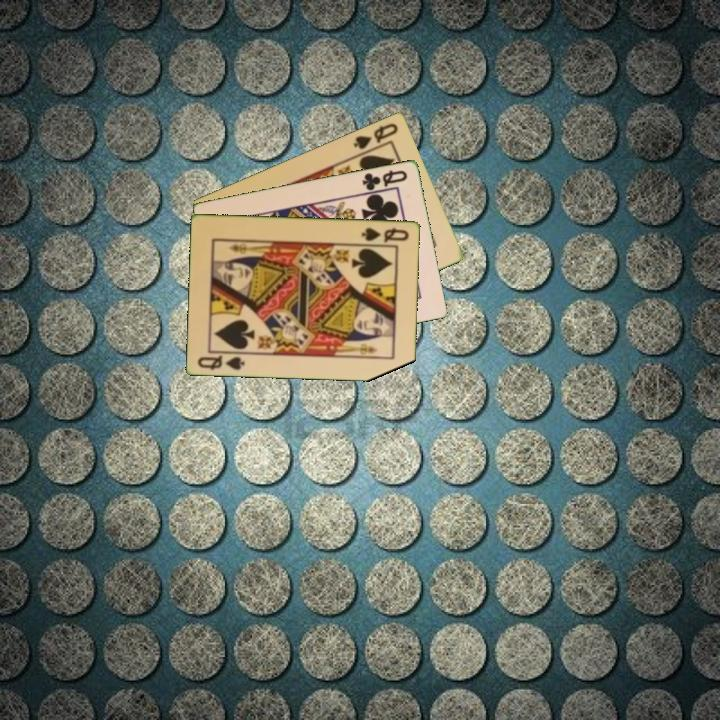Qc: (359, 166, 410, 193)
Qs: (350, 119, 401, 152), (195, 349, 249, 373), (358, 223, 412, 245)
